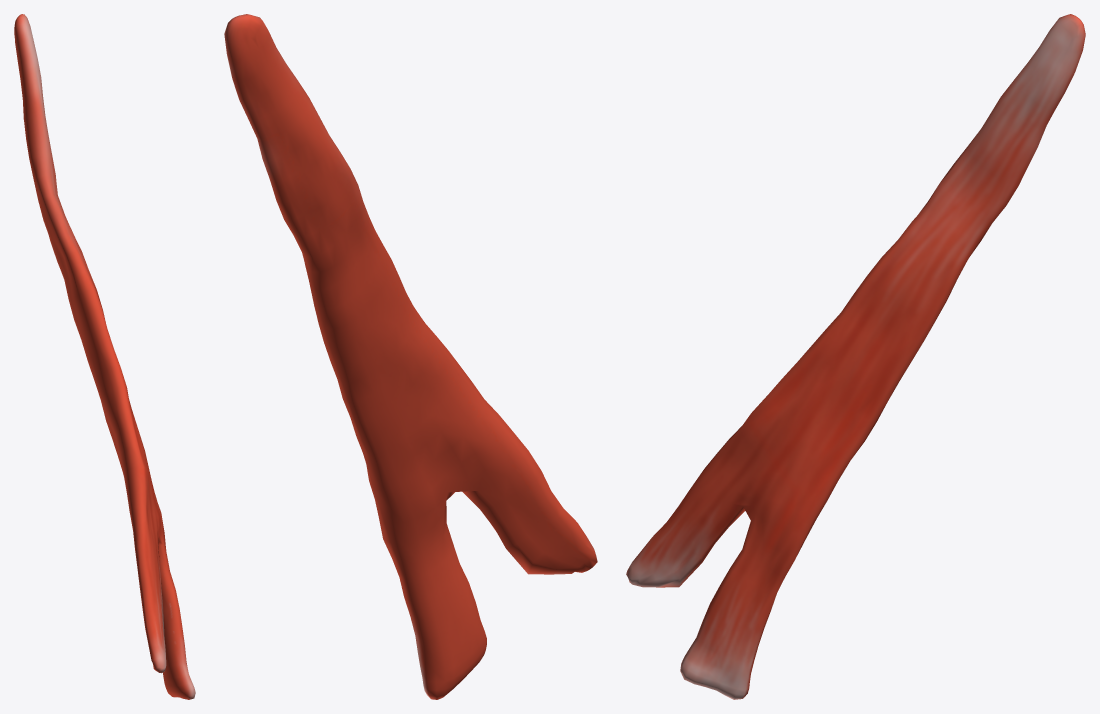
Rendered from Levator Nasolabialis.glb.
3 views of the same model, side by side, from view 1: azimuth 30°, elevation 25°; view 2: azimuth 150°, elevation 25°; view 3: azimuth 270°, elevation 25° (orthographic). The views are drawn at different scales.
Parts seen in each view (by area): view 1: Levator Nasolabialis.glb; view 2: Levator Nasolabialis.glb; view 3: Levator Nasolabialis.glb.
Boxes of the visible parts, box(x1,y1,x2,y2) form: Levator Nasolabialis.glb: box(14, 14, 195, 699); Levator Nasolabialis.glb: box(224, 14, 597, 699); Levator Nasolabialis.glb: box(626, 14, 1085, 699).
Size of the model in its own units: 0.0387 by 0.2719 by 0.1672.
Materials: 1 (1 with a texture image).
